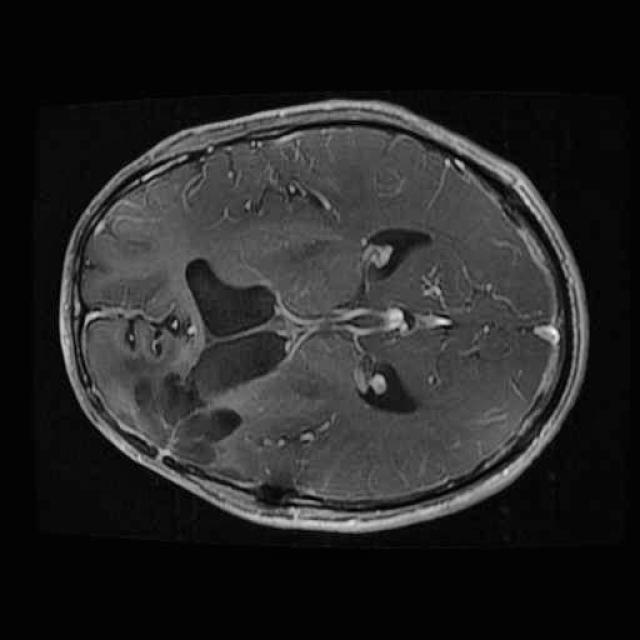Non-Tumor: (103, 339, 250, 491)
